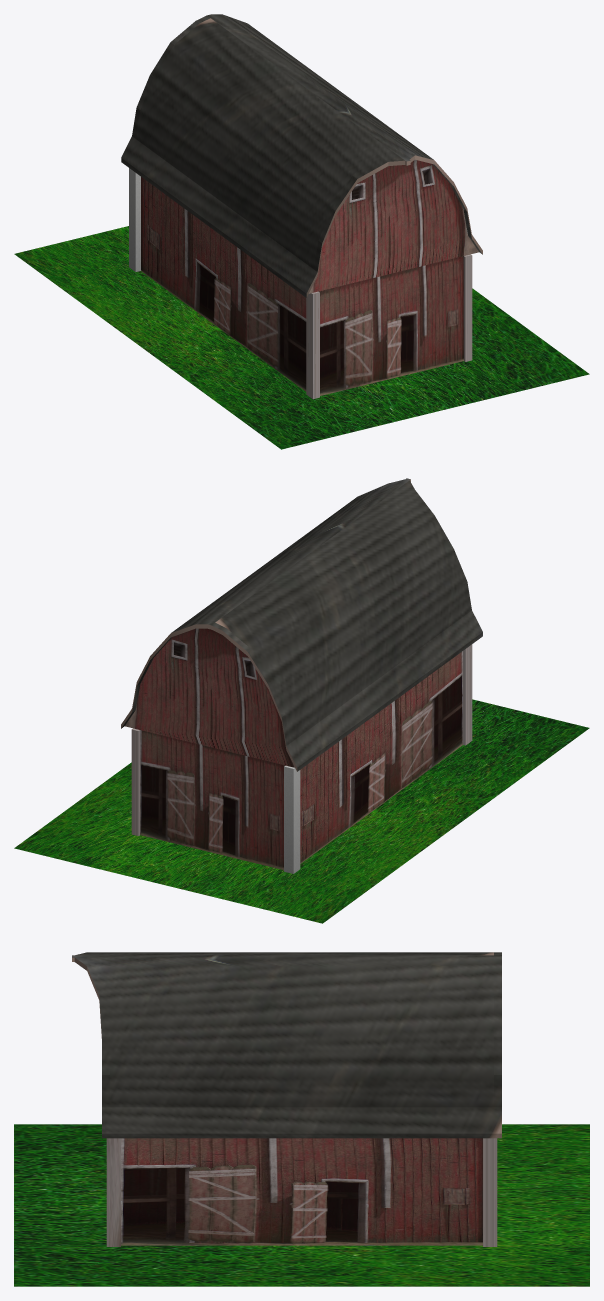
3 renders of one model, top to bottom at view 1: azimuth 30°, elevation 25°; view 2: azimuth 150°, elevation 25°; view 3: azimuth 270°, elevation 25°, orthographic. The views are drawn at different scales.
Parts seen in each view (by area): view 1: Farm, Grass; view 2: Farm, Grass; view 3: Farm, Grass.
Part boxes in pixels (bbox=[...]): Farm: bbox=[121, 14, 482, 399]; Grass: bbox=[14, 226, 589, 449]; Farm: bbox=[121, 478, 482, 873]; Grass: bbox=[14, 699, 589, 923]; Farm: bbox=[72, 952, 501, 1246]; Grass: bbox=[14, 1124, 589, 1286].
Size of the model in its own units: 1200 by 859 by 1800.
2 materials, 2 textured.
